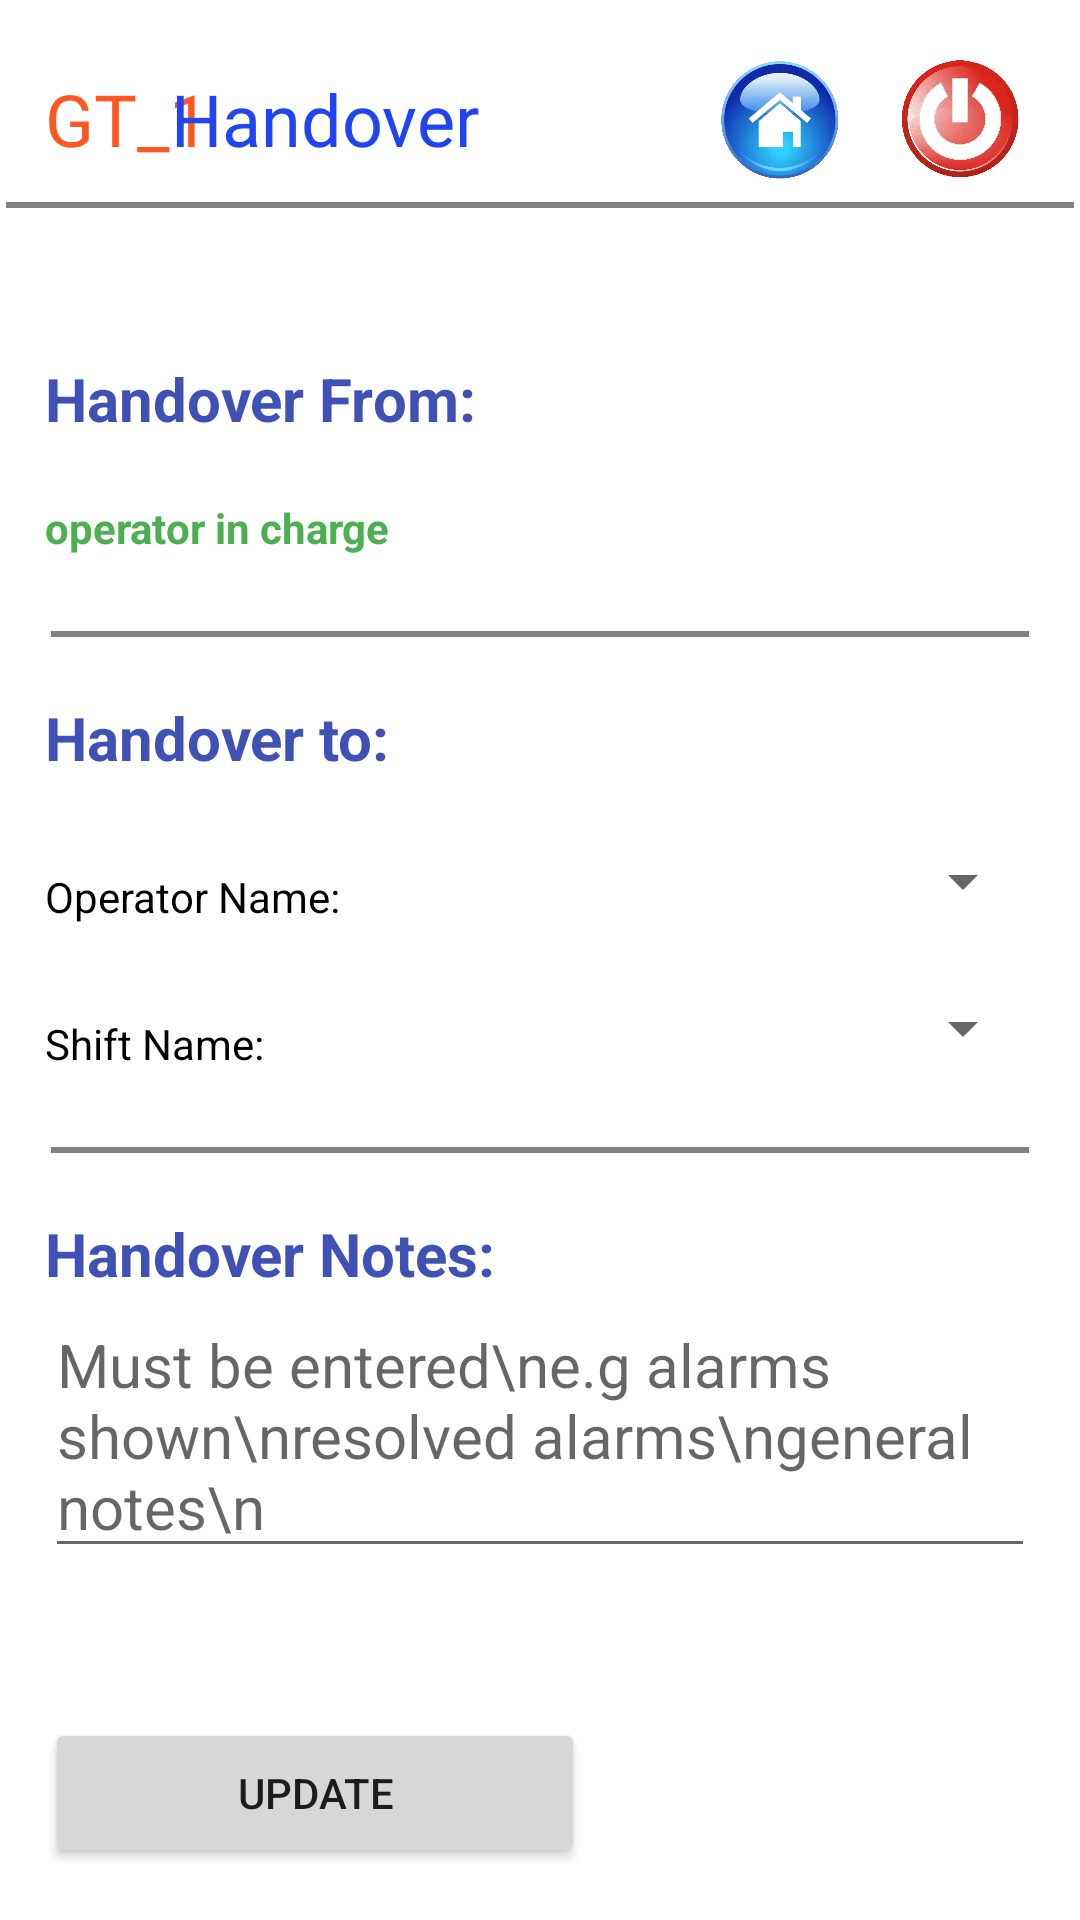

Named icons in this screenshot (1080w x 1920h) and their centers, point (x, y):
home: point (780, 120)
sign out: point (960, 118)
